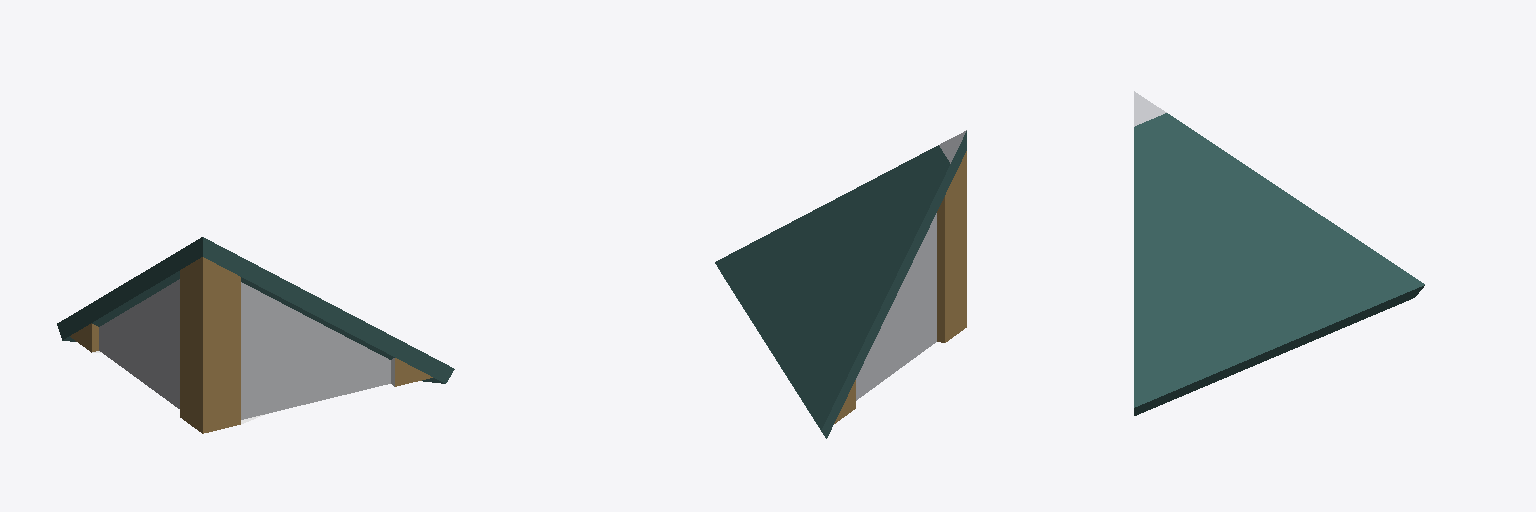
Rendered from Roof_Corner_Green_01.obj.
The picture shows the model from 3 angles: view 1: azimuth 30°, elevation 25°; view 2: azimuth 150°, elevation 25°; view 3: azimuth 270°, elevation 25°; orthographic projection.
Visible parts, largest first — view 1: Mesh1 Roof_Corner_Green Model; view 2: Mesh1 Roof_Corner_Green Model; view 3: Mesh1 Roof_Corner_Green Model.
Boxes of the visible parts, <box> form: Mesh1 Roof_Corner_Green Model: <box>57,237,454,433</box>; Mesh1 Roof_Corner_Green Model: <box>715,130,966,438</box>; Mesh1 Roof_Corner_Green Model: <box>1134,91,1424,415</box>.
Size of the model in its own units: 3.28 by 2.57 by 3.28.